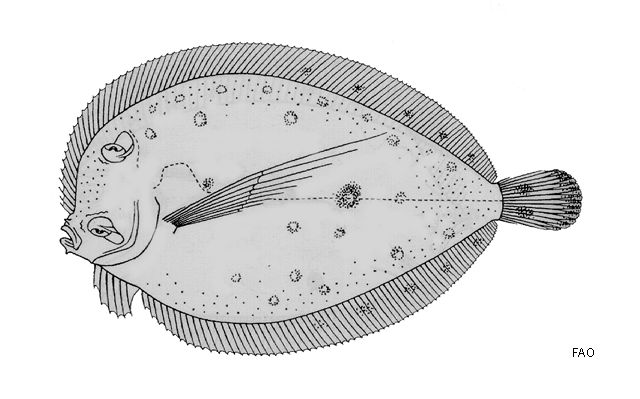fish: (58, 44, 585, 357)
